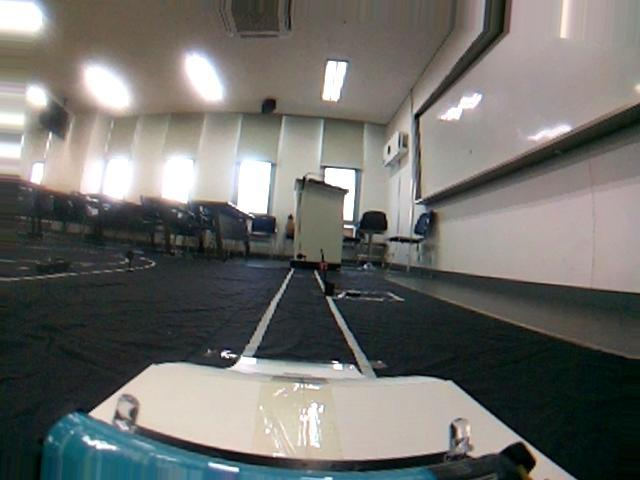hill_down: (7, 261, 640, 480)
